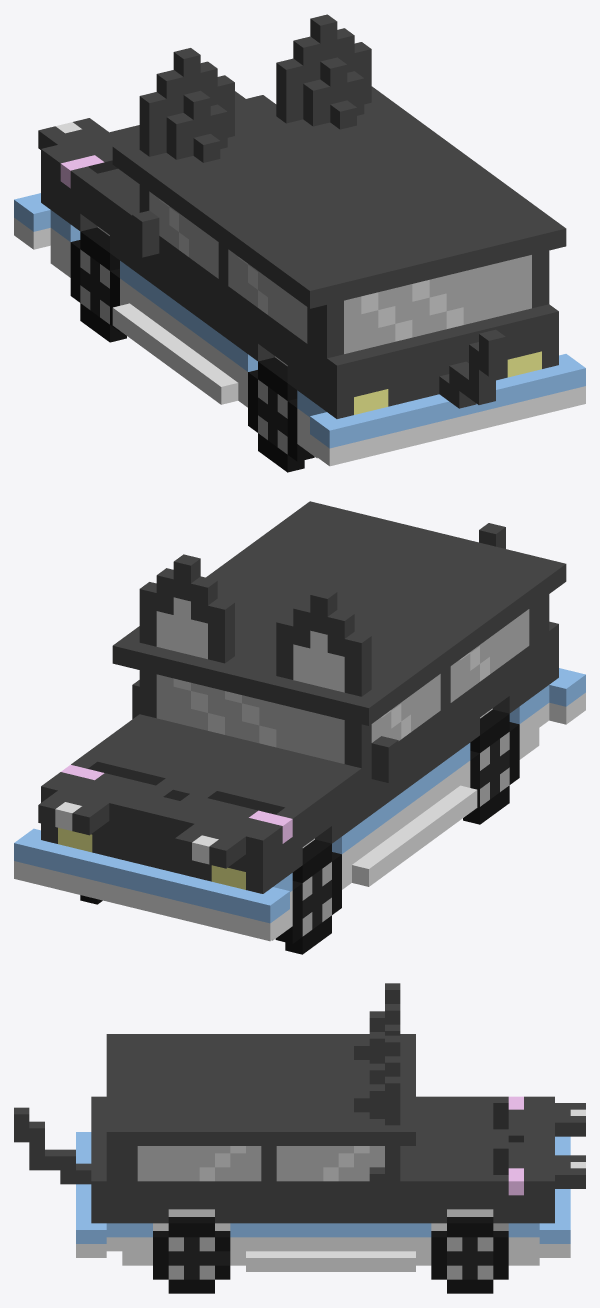
The model's file is car_09.glb.
The picture shows the model from 3 angles, top to bottom: view 1: azimuth 30°, elevation 25°; view 2: azimuth 150°, elevation 25°; view 3: azimuth 270°, elevation 25°; orthographic projection. The views are drawn at different scales.
Parts seen in each view (by area): view 1: ObjObject; view 2: ObjObject; view 3: ObjObject.
Part boxes in pixels (x1,y1,x2,y2): ObjObject: (14, 14, 585, 472); ObjObject: (14, 501, 585, 954); ObjObject: (14, 983, 585, 1293).
Size of the model in its own units: 1.5 by 1.7 by 3.7.
1 material, 1 textured.
